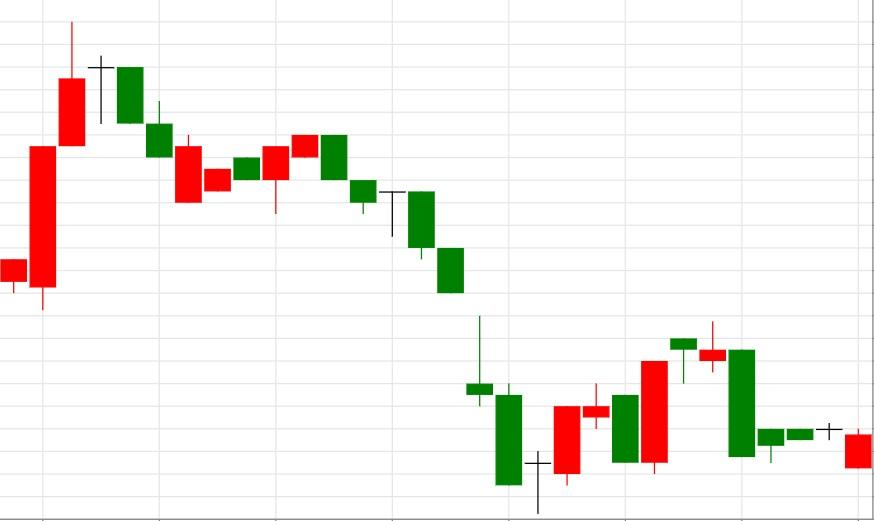bearish_engulfing_fall: (174, 135, 348, 214)
evening_star_fall: (0, 22, 145, 310)
